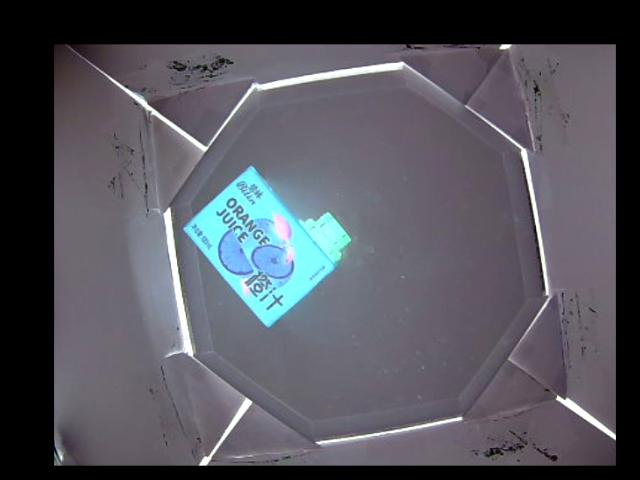Bottle: (181, 163, 352, 330)
